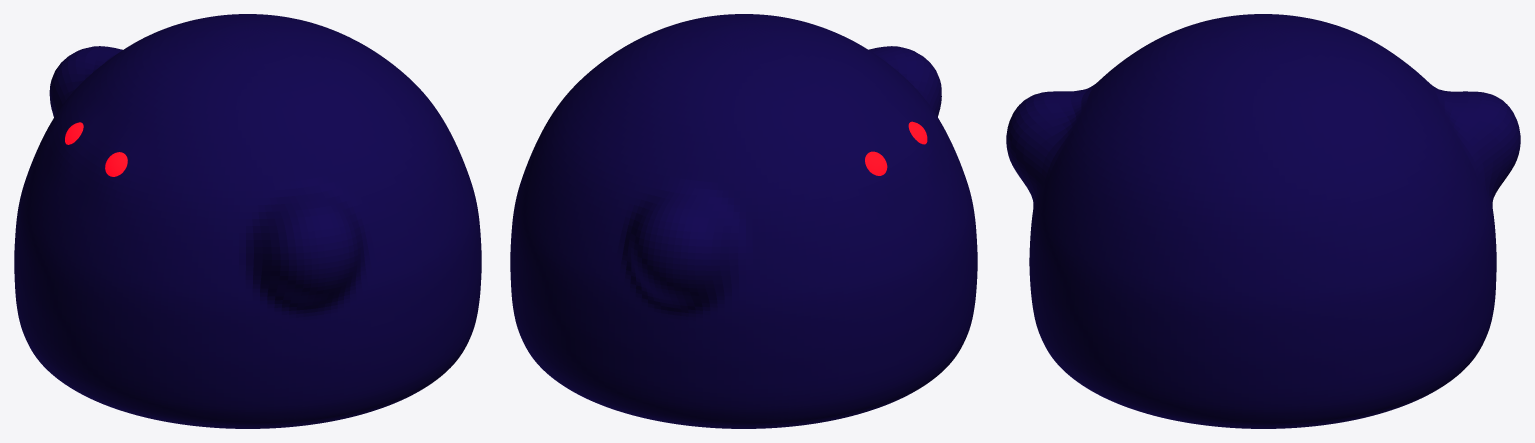
Rendered from enemy slime.fbx.
3 views of the same model, side by side, from view 1: azimuth 30°, elevation 25°; view 2: azimuth 150°, elevation 25°; view 3: azimuth 270°, elevation 25° (orthographic).
Visible parts, largest first — view 1: Body, Sphere; view 2: Body, Sphere; view 3: Body.
Boxes of the visible parts, box(x1,y1,x2,y2) form: Body: box(14, 14, 481, 428); Sphere: box(65, 122, 127, 176); Body: box(510, 14, 977, 428); Sphere: box(865, 121, 927, 175); Body: box(1006, 14, 1520, 428).
Size of the model in its own units: 2618 by 1968 by 2882.
